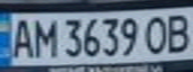3: (60, 16, 84, 58), (100, 15, 121, 57)
6: (81, 15, 103, 58)
9: (118, 15, 142, 57)
A: (6, 15, 36, 60)
B: (163, 11, 193, 54)
M: (30, 16, 57, 60)
O: (142, 12, 172, 55)
